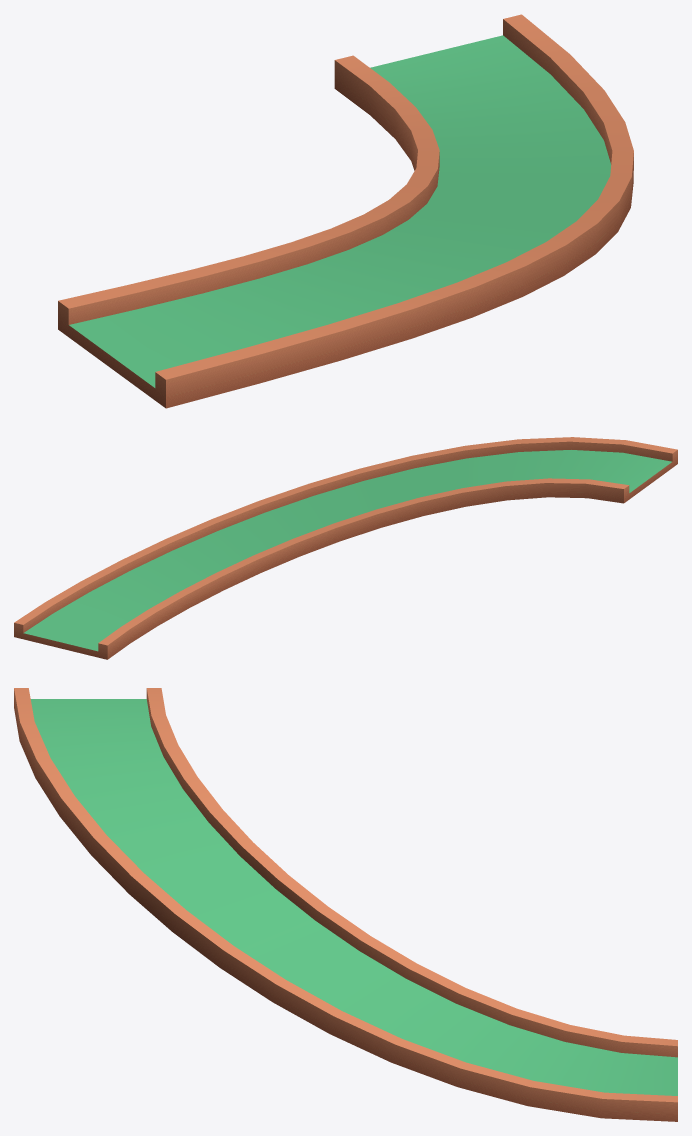
The model's file is spline-default-corner-large-ramp.glb.
The picture shows the model from 3 angles, top to bottom: view 1: azimuth 30°, elevation 25°; view 2: azimuth 150°, elevation 25°; view 3: azimuth 270°, elevation 25°; orthographic projection. The views are drawn at different scales.
Parts seen in each view (by area): view 1: spline-default-corner-large-ramp; view 2: spline-default-corner-large-ramp; view 3: spline-default-corner-large-ramp.
Boxes of the visible parts, <box> form: spline-default-corner-large-ramp: <box>58,14,633,408</box>; spline-default-corner-large-ramp: <box>14,437,677,659</box>; spline-default-corner-large-ramp: <box>14,688,677,1121</box>.
Bounding box in the file's own units: 4.5 × 1.15 × 4.5.
Materials: 1 (1 with a texture image).
